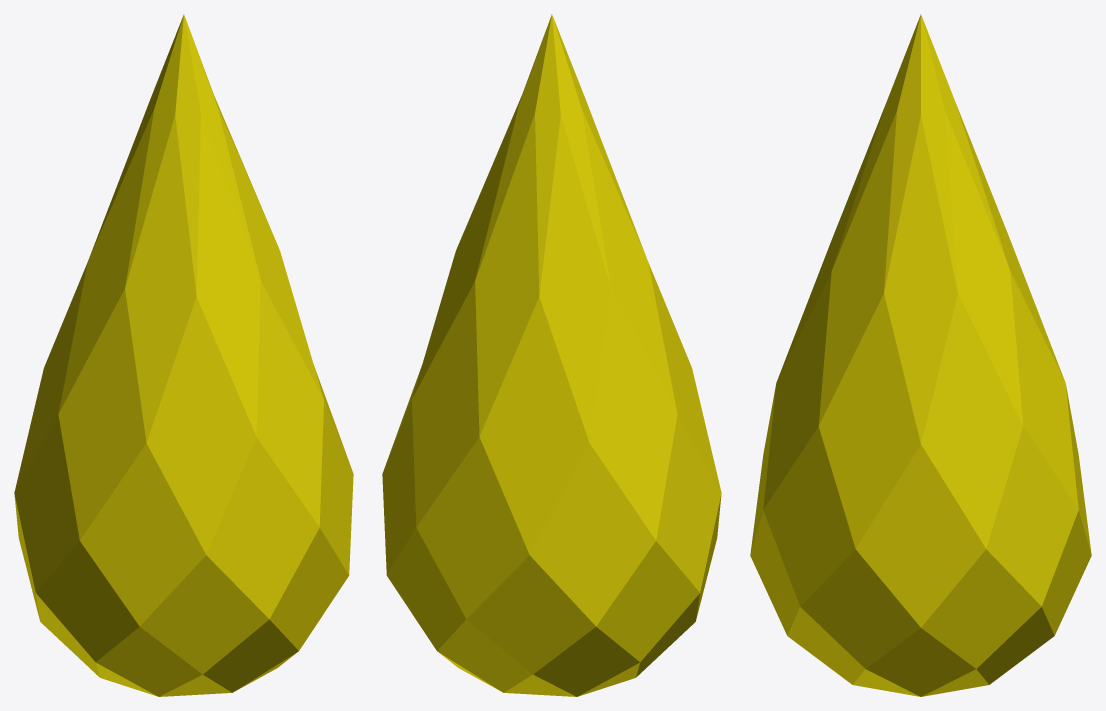
The model's file is Tuk_lipid.fbx.
3 renders of one model, left to right at view 1: azimuth 30°, elevation 25°; view 2: azimuth 150°, elevation 25°; view 3: azimuth 270°, elevation 25°, orthographic.
Parts seen in each view (by area): view 1: Sphere; view 2: Sphere; view 3: Sphere.
Part boxes in pixels (<box>): Sphere: <box>14,14,353,696</box>; Sphere: <box>382,14,721,696</box>; Sphere: <box>750,14,1091,696</box>.
Bounding box in the file's own units: 0.4599 × 0.4599 × 0.9937.
